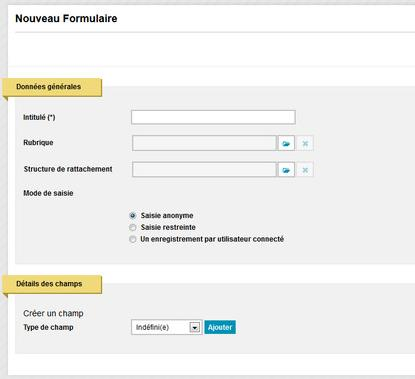button: (203, 318, 238, 336)
field: (130, 109, 297, 125), (131, 135, 279, 151), (131, 162, 279, 178), (129, 318, 202, 336)
field_with_label: (24, 161, 281, 180), (25, 108, 298, 125), (24, 134, 281, 152), (22, 317, 206, 338)
radio: (127, 210, 138, 221), (128, 234, 138, 244), (128, 223, 136, 232)
radio_with_label: (124, 232, 285, 245), (125, 222, 197, 233), (124, 210, 193, 221)
